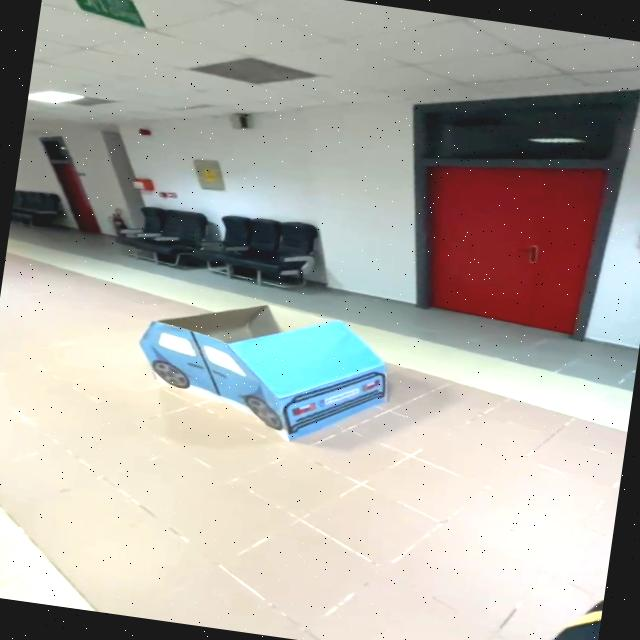blue_car: (106, 273, 423, 464)
